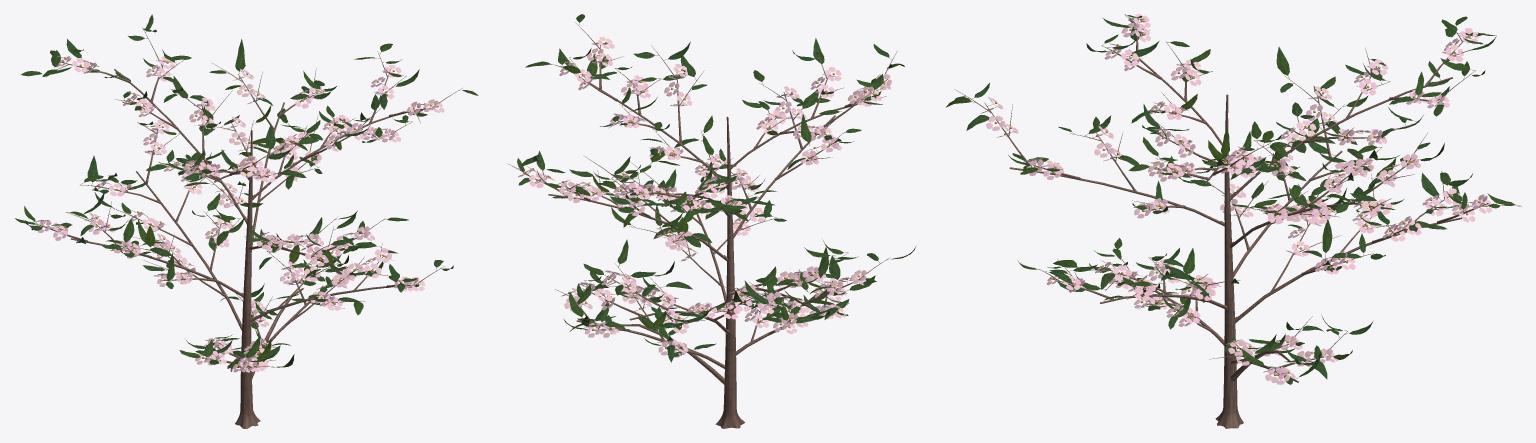
Rendered from cherry.glb.
The picture shows the model from 3 angles, left to right: view 1: azimuth 30°, elevation 25°; view 2: azimuth 150°, elevation 25°; view 3: azimuth 270°, elevation 25°; orthographic projection. The views are drawn at different scales.
Visible parts, largest first — view 1: Flowers, Foliage, Bark; view 2: Foliage, Flowers, Bark; view 3: Flowers, Foliage, Bark.
Boxes of the visible parts, <box> form: Flowers: <box>33,55,444,372</box>; Foliage: <box>15,14,478,368</box>; Bark: <box>36,27,462,428</box>; Foliage: <box>517,14,915,362</box>; Flowers: <box>518,37,891,357</box>; Bark: <box>507,22,897,428</box>; Flowers: <box>980,14,1492,384</box>; Foliage: <box>946,15,1514,384</box>; Bark: <box>954,14,1521,428</box>.
Bounding box in the file's own units: 2.8 × 2.3 × 3.2.
Materials: 3 (2 with a texture image).
